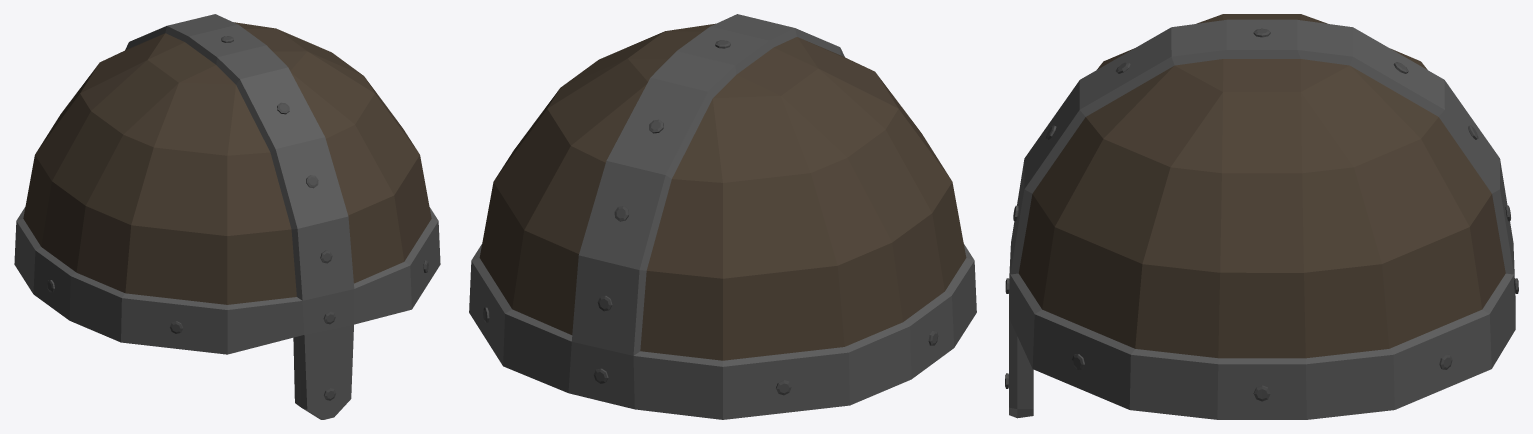
File: newHat2.fbx
The picture shows the model from 3 angles, left to right: view 1: azimuth 30°, elevation 25°; view 2: azimuth 150°, elevation 25°; view 3: azimuth 270°, elevation 25°; orthographic projection. The views are drawn at different scales.
Visible parts, largest first — view 1: Helmet; view 2: Helmet; view 3: Helmet.
Part boxes in pixels (x1,y1,x2,y2): Helmet: [14, 14, 440, 419]; Helmet: [469, 14, 976, 419]; Helmet: [1005, 14, 1518, 419].
Size of the model in its own units: 28.38 by 23.5 by 28.5.
